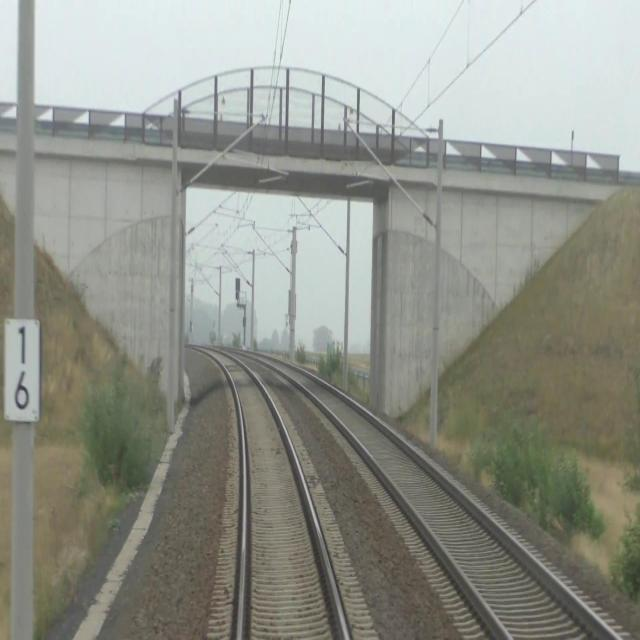rail-track: (268, 359, 612, 639), (213, 351, 344, 639)
